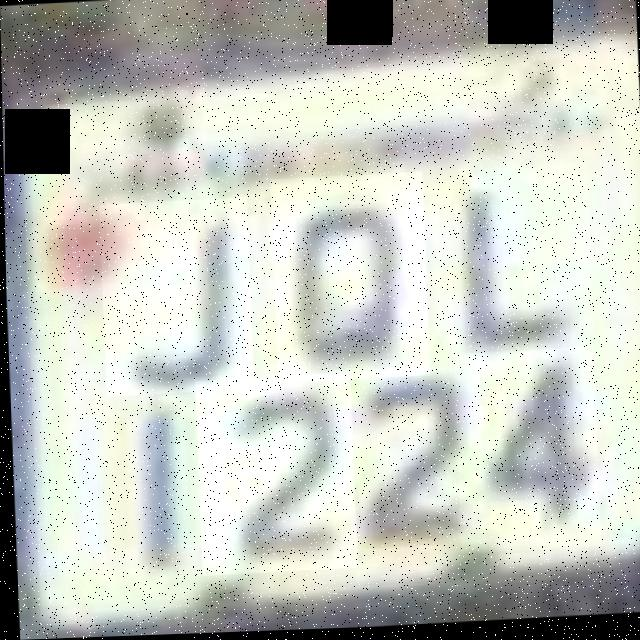1: (96, 373, 198, 570)
2: (193, 374, 355, 577), (324, 368, 484, 571)
4: (451, 351, 598, 557)
J: (441, 166, 593, 385), (98, 198, 252, 397)
Q: (269, 174, 428, 385)
